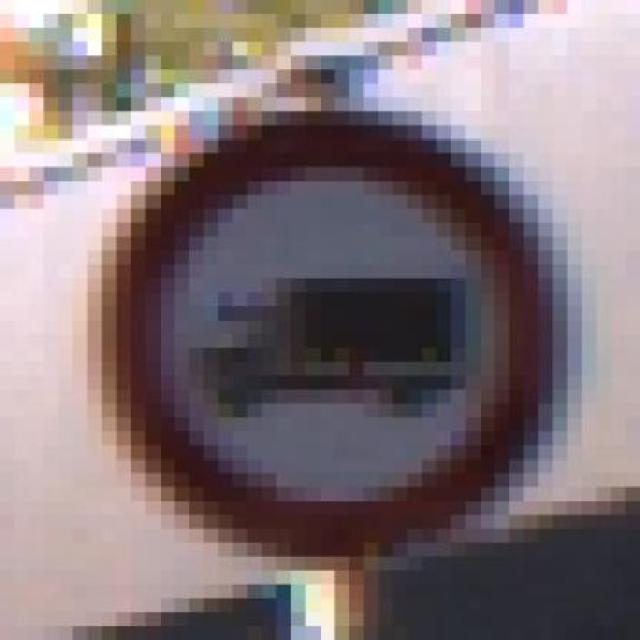Truck traffic is prohibited: (72, 69, 597, 571)
